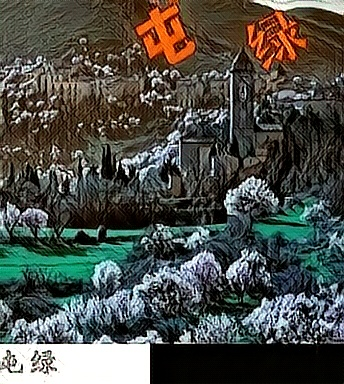C2CC: (244, 6, 308, 73)
CDCD: (134, 4, 198, 71)
